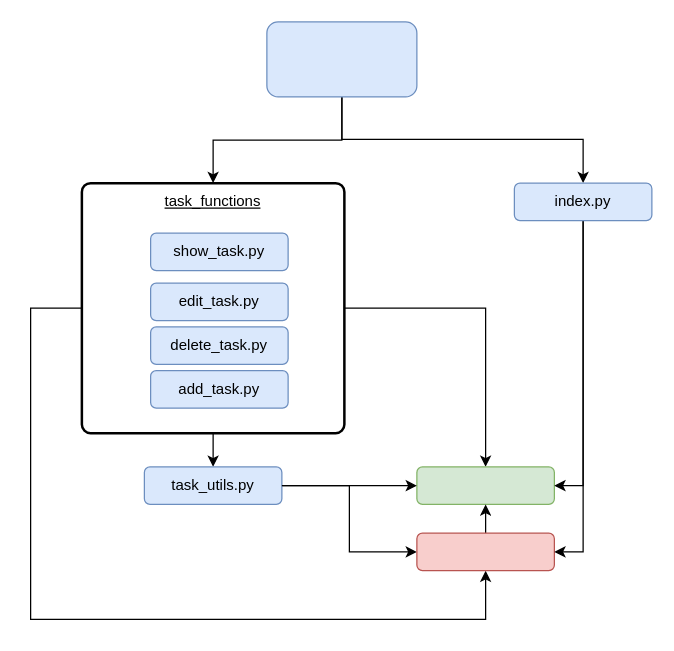
Some shapes in this 674 by 651 pixel diagram are drawn without their labels. Each missing label, with the centre of its shape:
interface.py: point 485,485
json_handler.py: point 485,551
main.py: point 341,59
